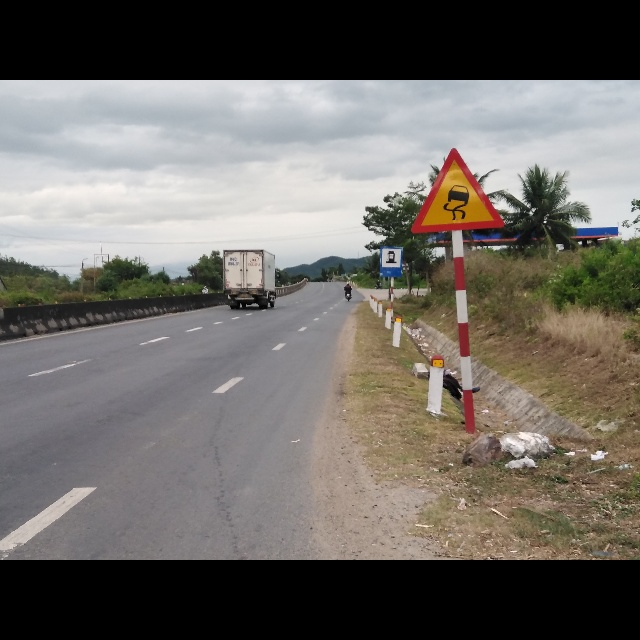Đường trơn trượt: (407, 146, 505, 234)
